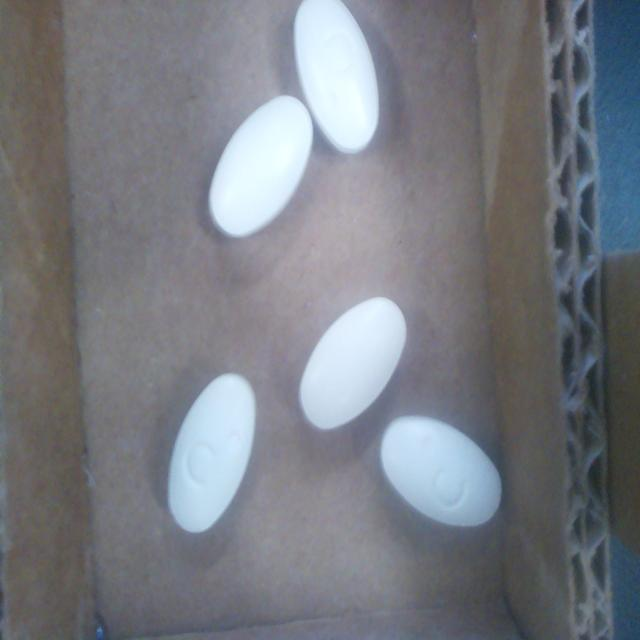pill: (208, 95, 313, 237), (299, 297, 406, 430), (168, 374, 256, 532), (381, 416, 501, 526), (294, 0, 379, 153)
